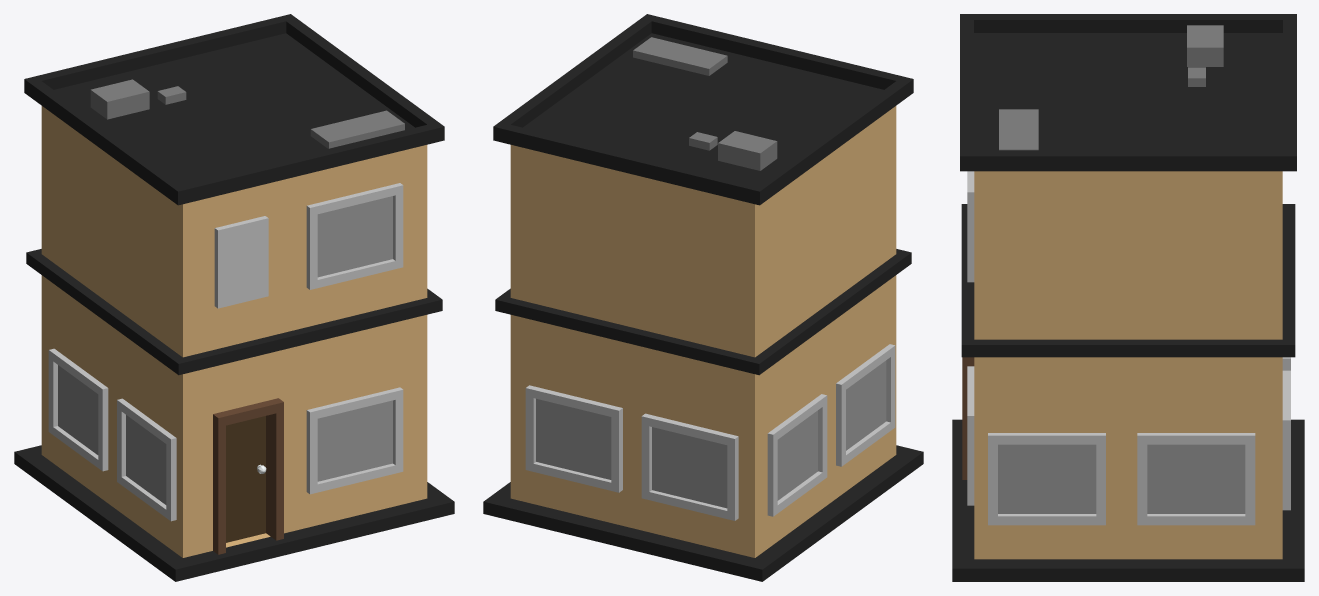
Rendered from buildings5.fbx.
3 renders of one model, left to right at view 1: azimuth 30°, elevation 25°; view 2: azimuth 150°, elevation 25°; view 3: azimuth 270°, elevation 25°, orthographic. The views are drawn at different scales.
Visible parts, largest first — view 1: Cube; view 2: Cube; view 3: Cube.
Boxes of the visible parts, x1,y1,x2,y2 form: Cube: [14, 14, 454, 581]; Cube: [483, 14, 923, 581]; Cube: [952, 14, 1304, 581].
Bounding box in the file's own units: 597 × 802 × 597.
